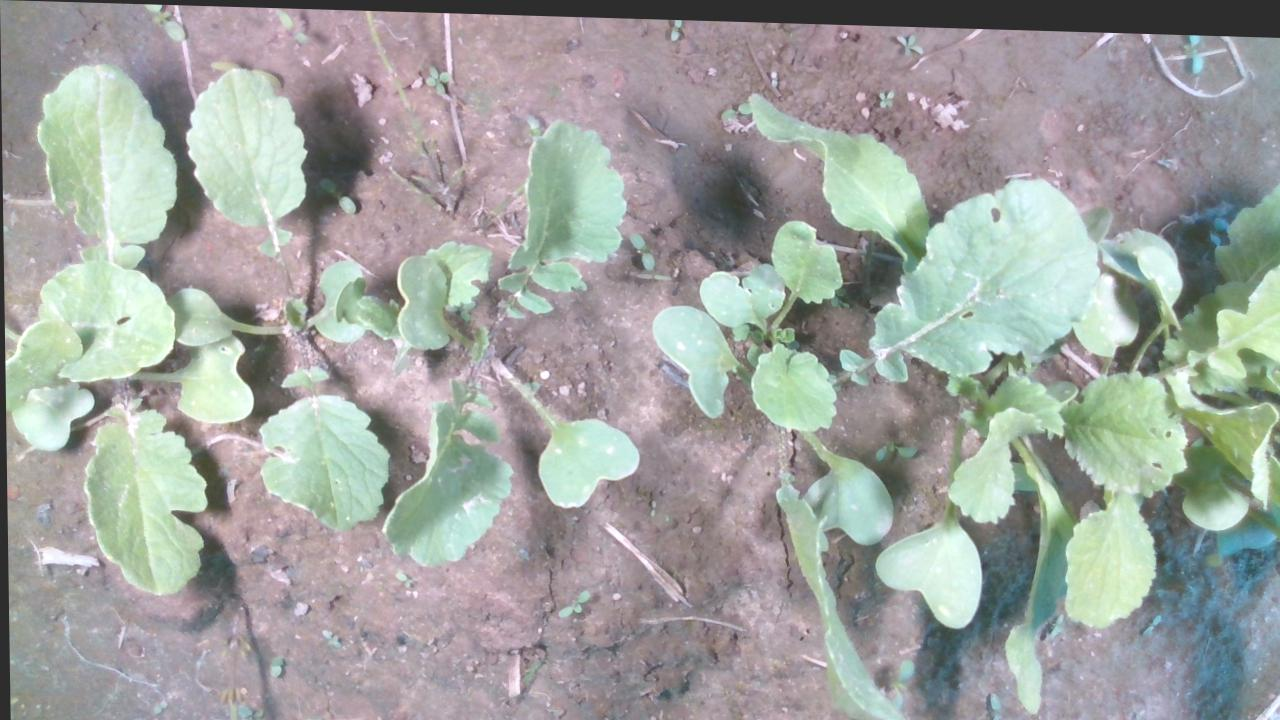weed: (315, 173, 355, 213), (273, 6, 310, 43), (626, 225, 653, 266), (556, 582, 588, 616), (420, 62, 452, 92), (895, 25, 923, 51), (319, 625, 339, 646), (391, 567, 412, 586), (265, 652, 281, 676), (632, 268, 673, 277), (877, 82, 893, 104)
